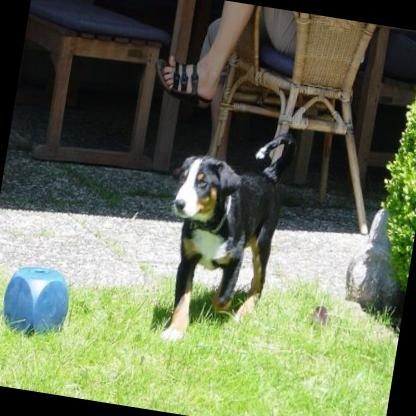Appenzeller: (147, 115, 294, 357)
